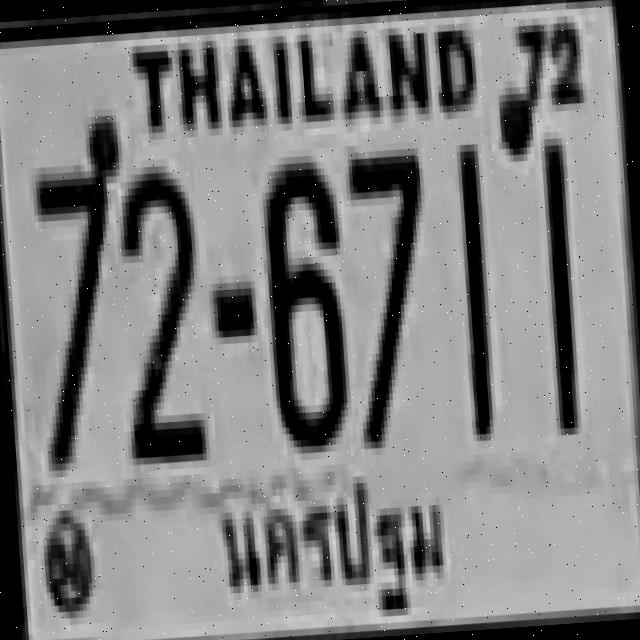1: (534, 138, 580, 429), (450, 141, 495, 438)
2: (108, 161, 206, 462)
6: (256, 154, 350, 448)
7: (24, 115, 136, 464), (339, 142, 434, 442)
NakhonPathom: (210, 454, 460, 640)
